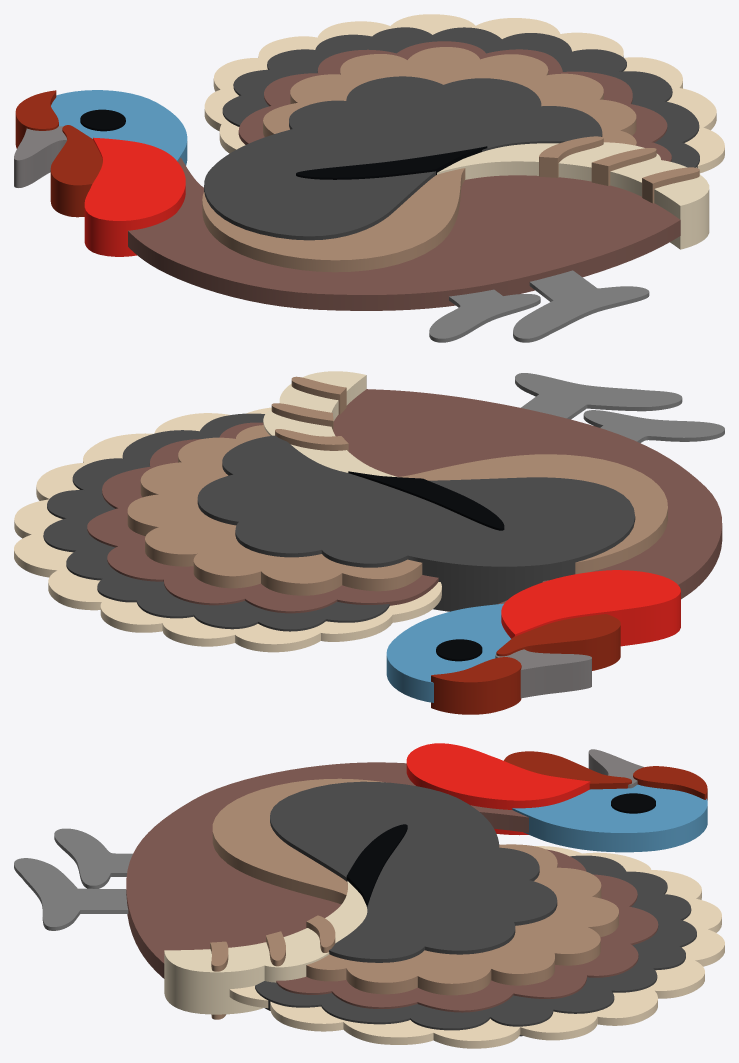
File: emoji_u1f983.glb
3 renders of one model, top to bottom at view 1: azimuth 30°, elevation 25°; view 2: azimuth 150°, elevation 25°; view 3: azimuth 270°, elevation 25°, orthographic. The views are drawn at different scales.
Parts seen in each view (by area): view 1: emoji_u1f983; view 2: emoji_u1f983; view 3: emoji_u1f983.
Boxes of the visible parts, box(x1,y1,x2,y2) form: emoji_u1f983: box(14, 14, 724, 342); emoji_u1f983: box(14, 371, 724, 714); emoji_u1f983: box(14, 743, 724, 1048).
Bounding box in the file's own units: 0.0317 × 0.0028 × 0.0336.
